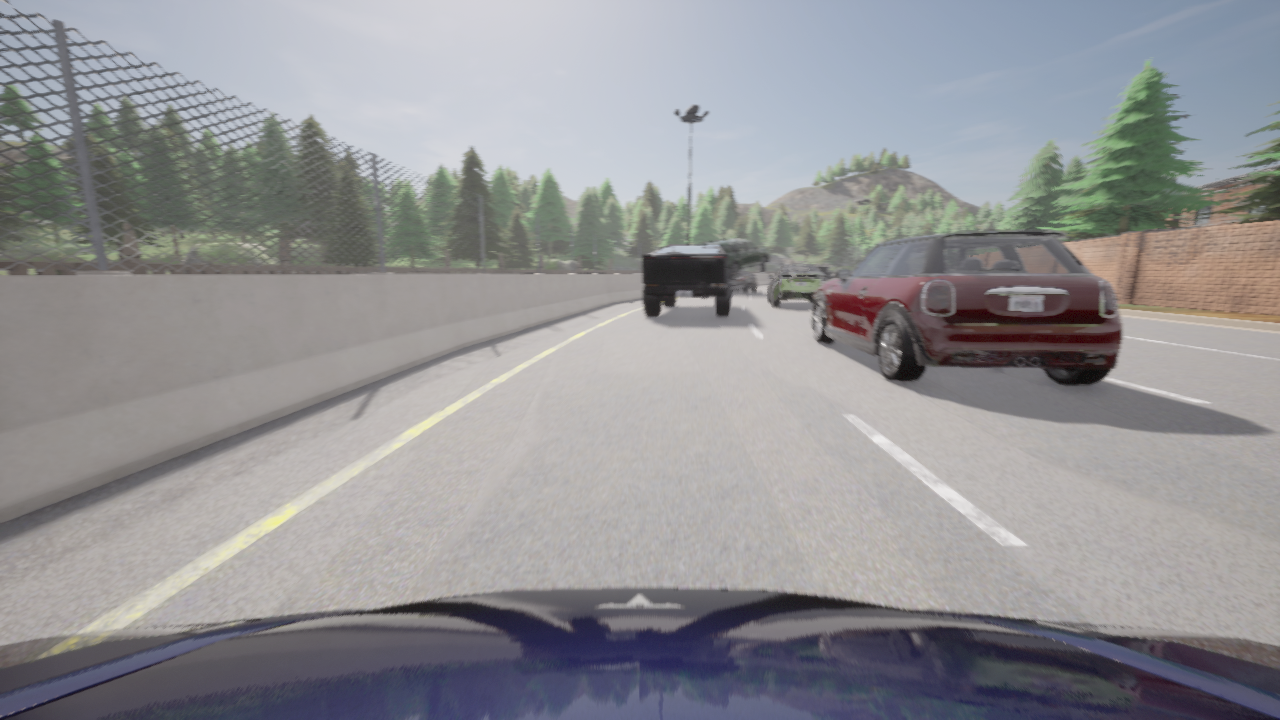cyclist: (0, 588, 1279, 719), (811, 220, 1121, 384), (643, 245, 731, 316), (703, 240, 770, 281), (768, 265, 824, 306), (730, 270, 756, 293), (814, 266, 835, 282)
